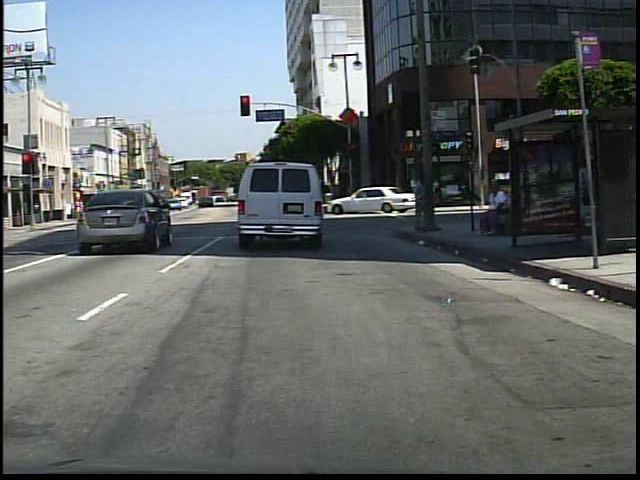person: (479, 180, 513, 238), (408, 170, 428, 232), (72, 193, 88, 222)
